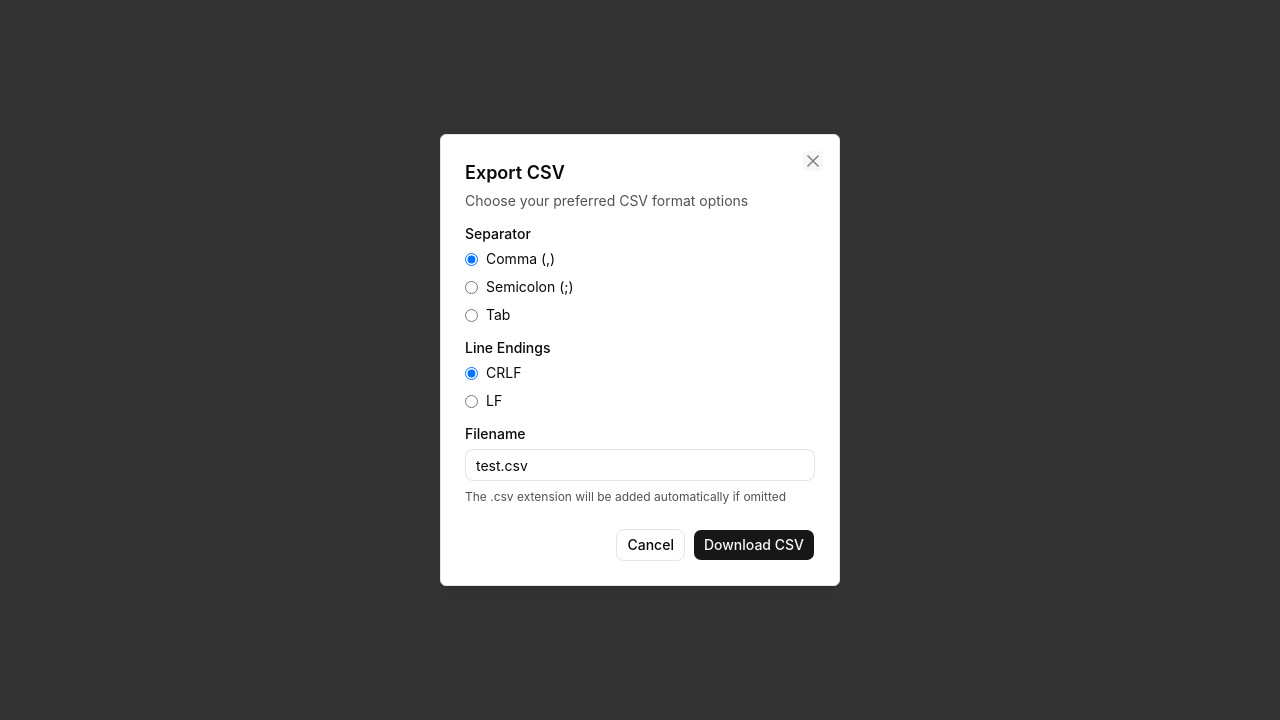
Test: CsvExportModal › separator radio group › tab radio can be selected
Click the radio button with test id "csv-separator-tab": (472, 315) [465, 308, 478, 322]
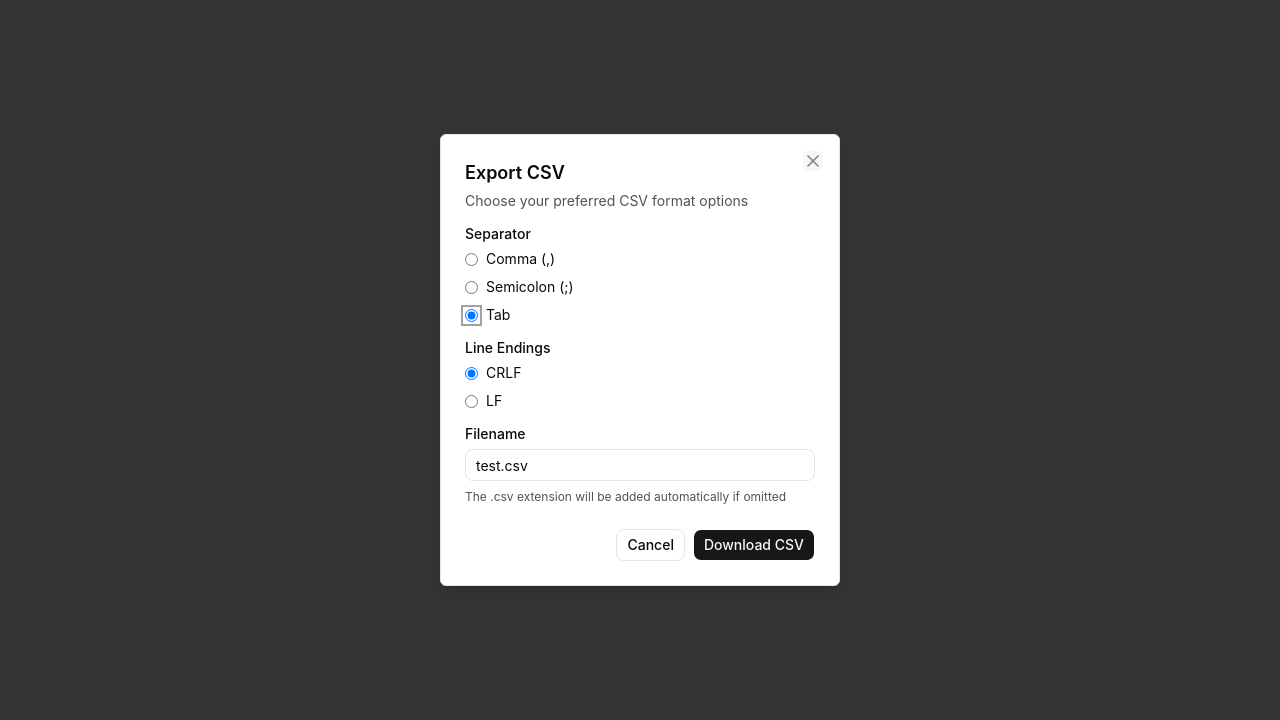
Now the radio button with test id "csv-separator-tab" is checked, box [465, 308, 478, 322]
Now the radio button with test id "csv-separator-comma" is not checked, box [465, 252, 478, 266]
